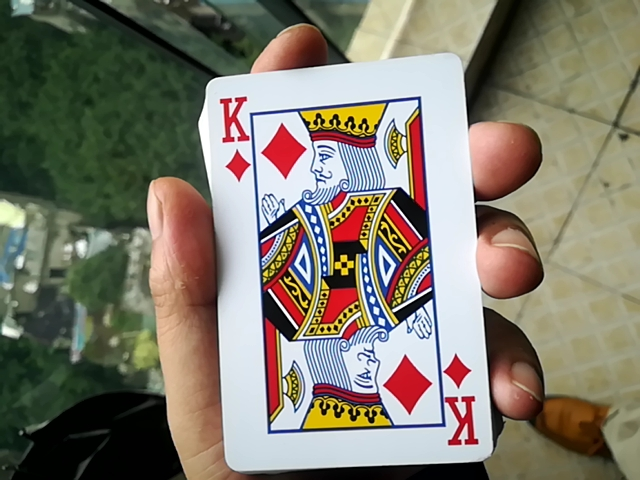fk k: (190, 45, 495, 464)
